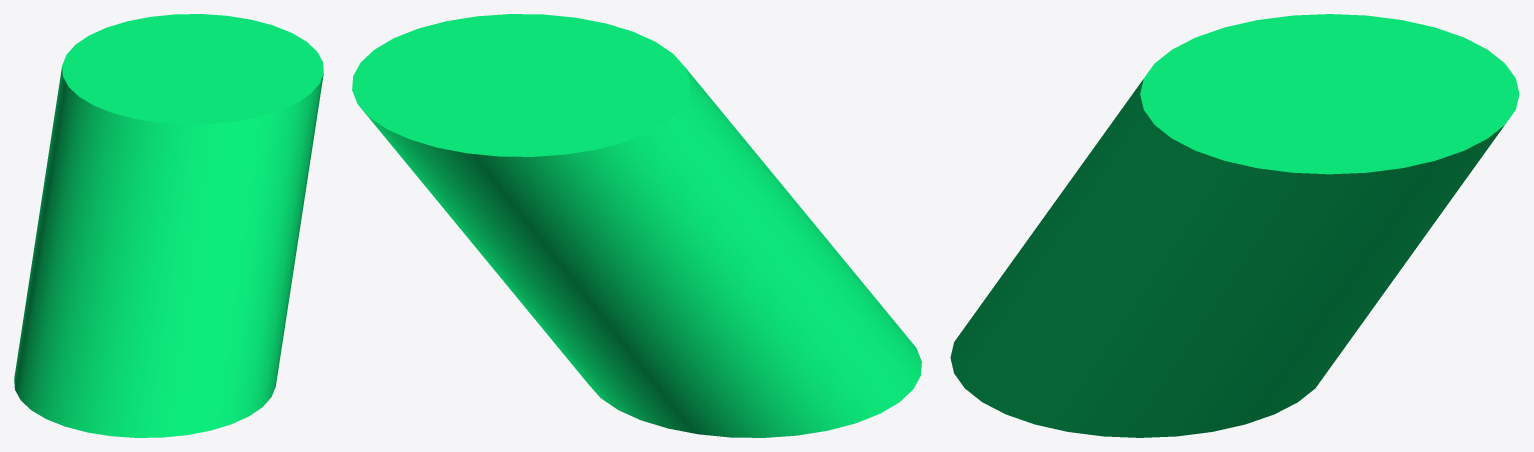
File: oblique_cylinder.fbx
3 views of the same model, side by side, from view 1: azimuth 30°, elevation 25°; view 2: azimuth 150°, elevation 25°; view 3: azimuth 270°, elevation 25° (orthographic). The views are drawn at different scales.
Parts seen in each view (by area): view 1: oblique_cylinder; view 2: oblique_cylinder; view 3: oblique_cylinder.
Part boxes in pixels (left/top/right/bottom): oblique_cylinder: left=14, top=14, right=323, bottom=437; oblique_cylinder: left=352, top=14, right=921, bottom=437; oblique_cylinder: left=950, top=14, right=1519, bottom=437.
Size of the model in its own units: 152 by 101 by 152.
